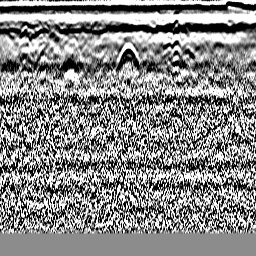cavity: (117, 39, 139, 68)
